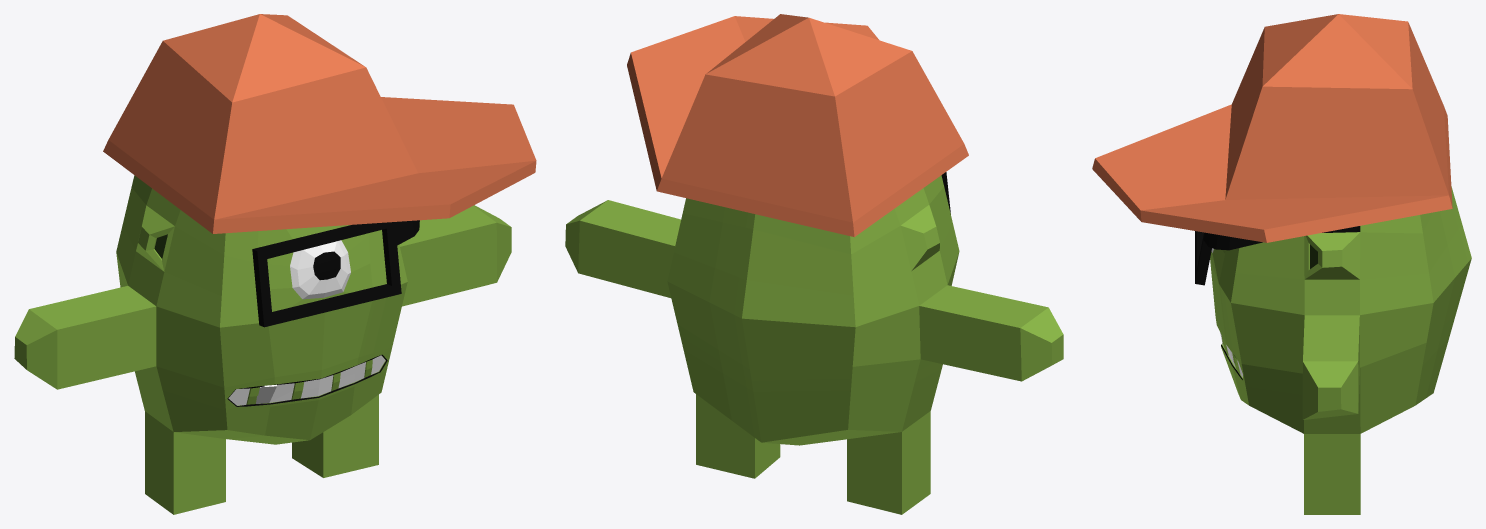
File: character_1.fbx
The picture shows the model from 3 angles, left to right: view 1: azimuth 30°, elevation 25°; view 2: azimuth 150°, elevation 25°; view 3: azimuth 270°, elevation 25°; orthographic projection. The views are drawn at different scales.
Visible parts, largest first — view 1: body; view 2: body; view 3: body.
Part boxes in pixels (left/top/right/bottom): body: left=14, top=14, right=536, bottom=514; body: left=565, top=14, right=1063, bottom=514; body: left=1092, top=14, right=1471, bottom=514.
Bounding box in the file's own units: 280 × 255 × 194.
1 material, 1 textured.
